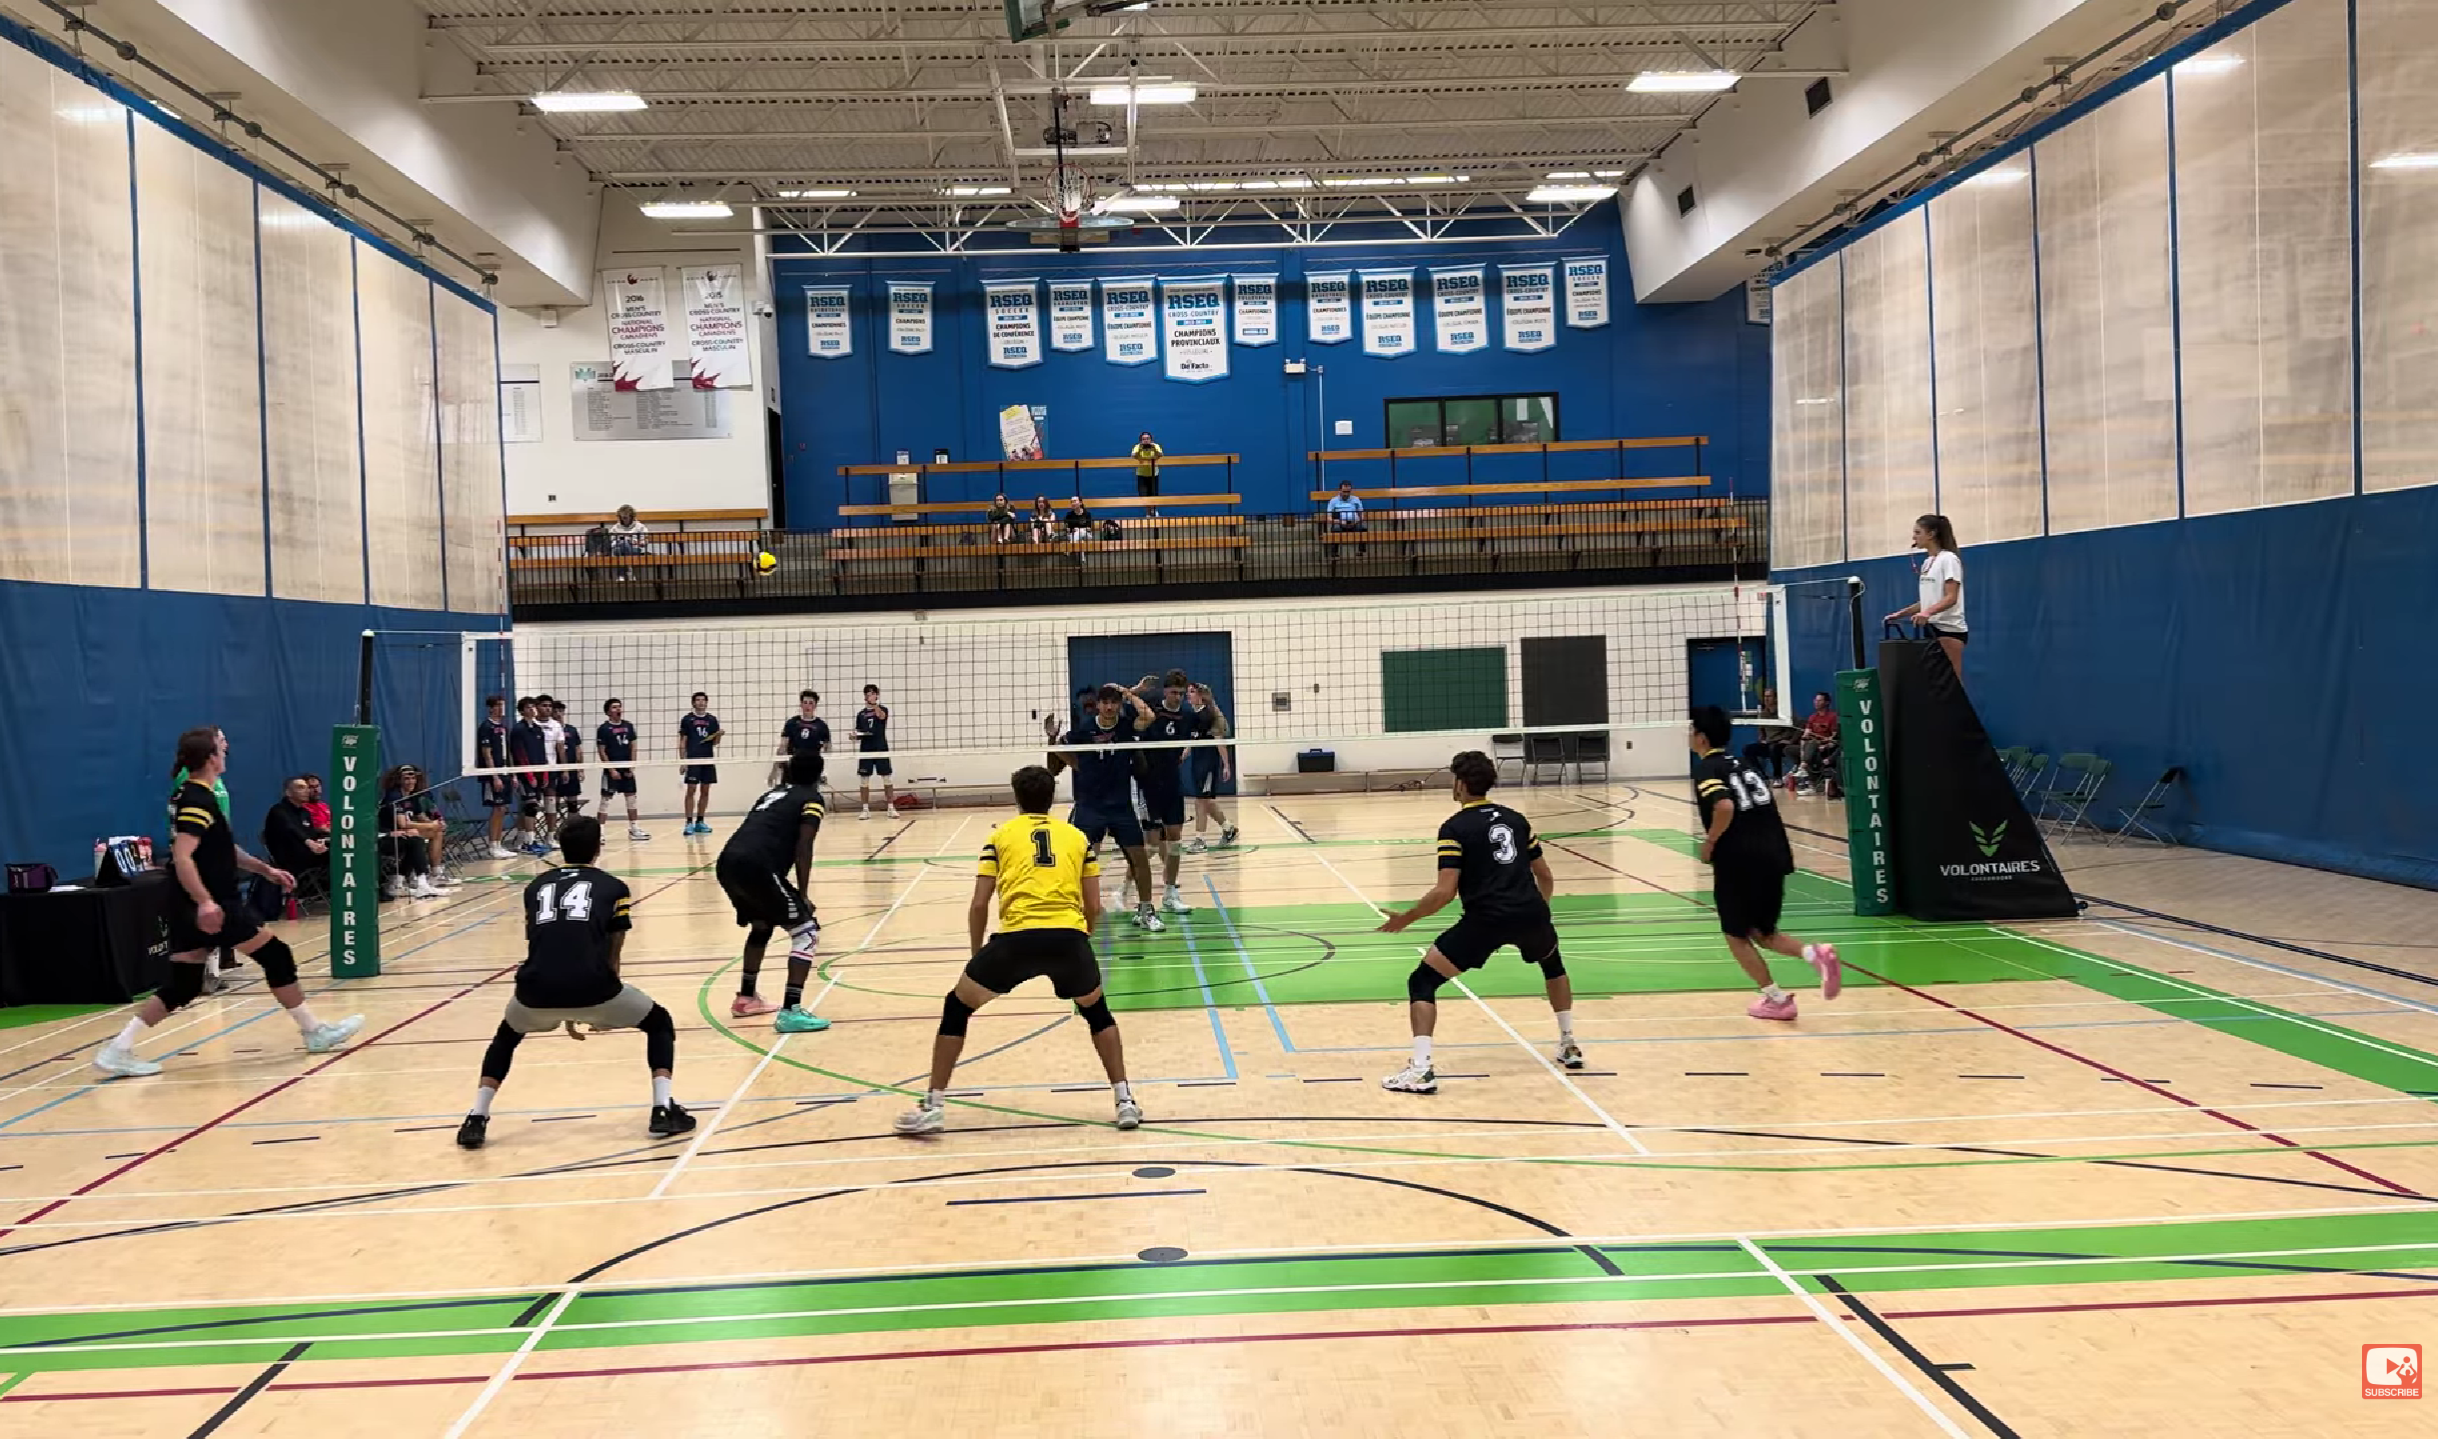Ball: (752, 550, 779, 579)
